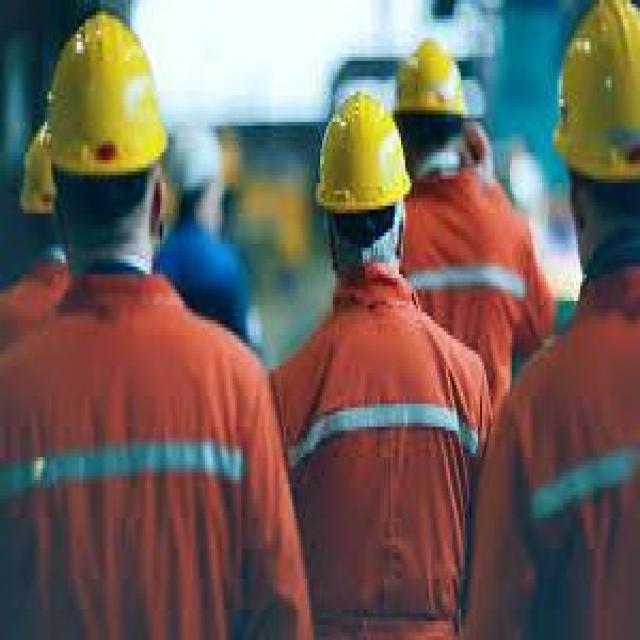Reflective-Jacket: (0, 270, 311, 632), (277, 266, 482, 640), (395, 160, 542, 419)
Safety-Helmet: (30, 8, 177, 202), (546, 4, 640, 202), (307, 80, 416, 236), (379, 30, 488, 141)
